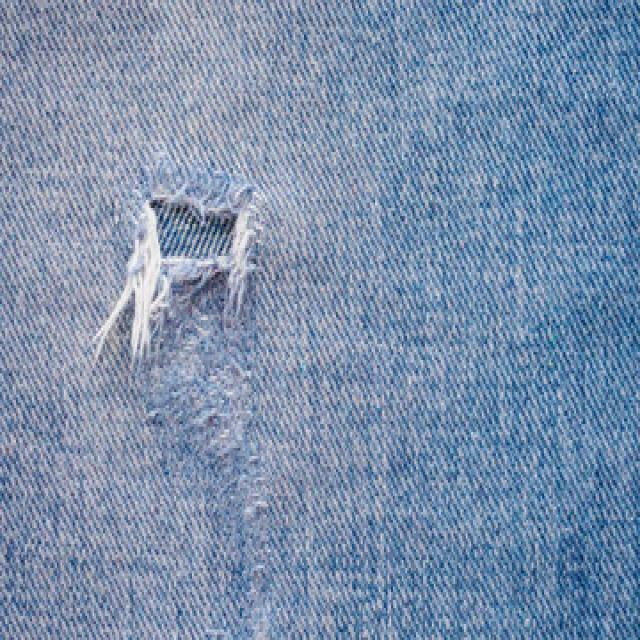Hole: (136, 154, 260, 320)
